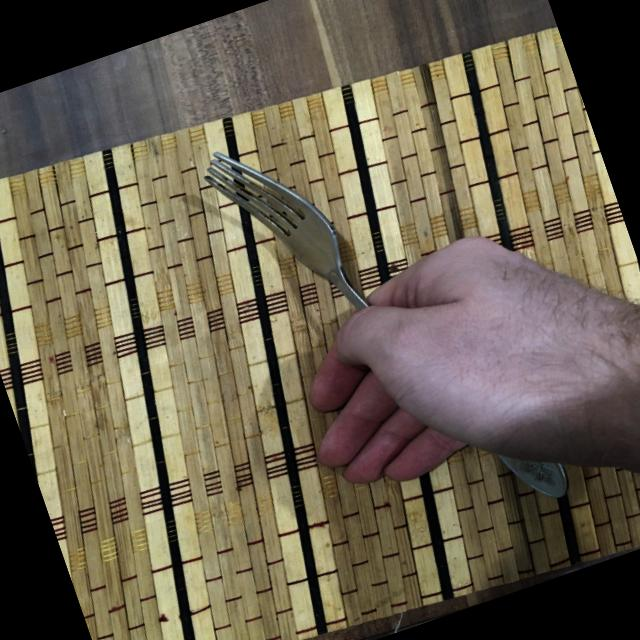fork: (195, 78, 573, 578)
